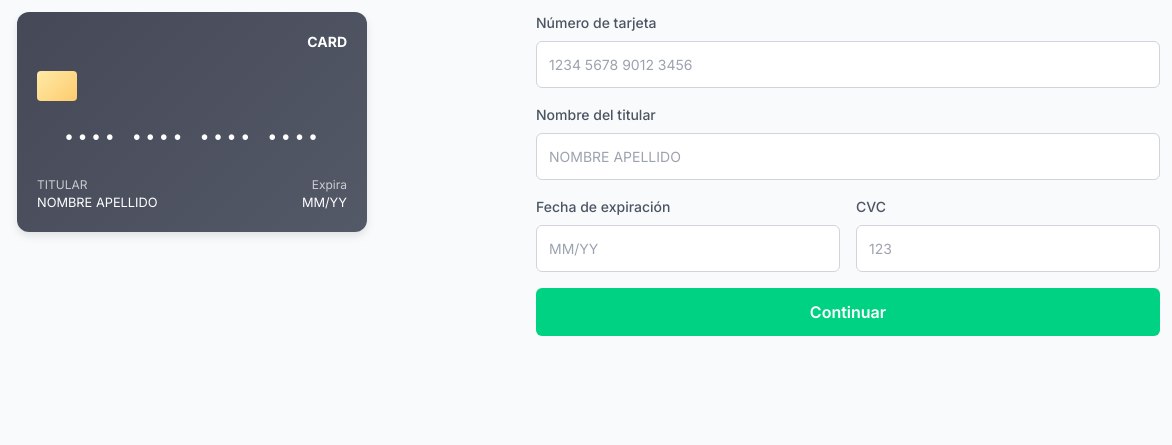
Test: CreditCardForm › validates card number format
The width and height of the screenshot is (1172, 445).
In the field labelled "Número de tarjeta": (848, 64) [536, 41, 1160, 88], type "1234"
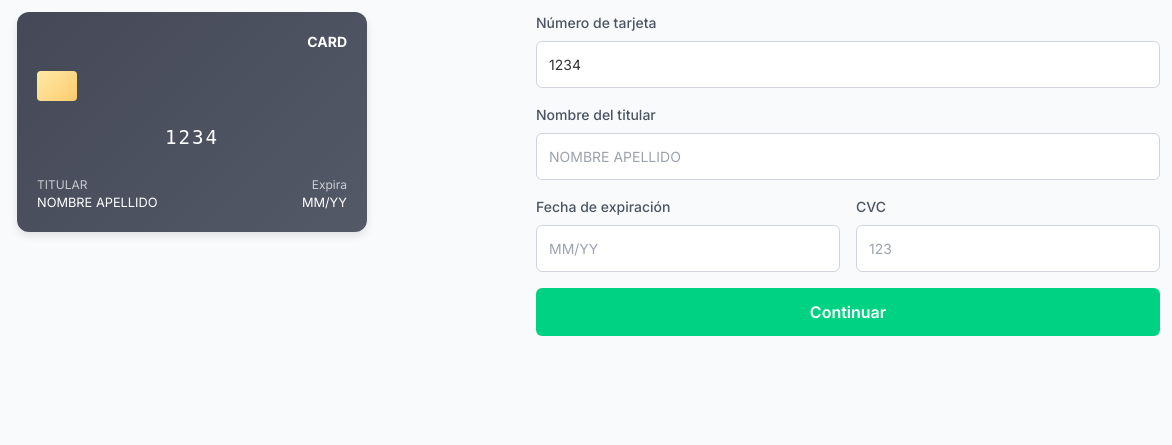
Submit the form from the button "Continuar", box [536, 288, 1160, 336]
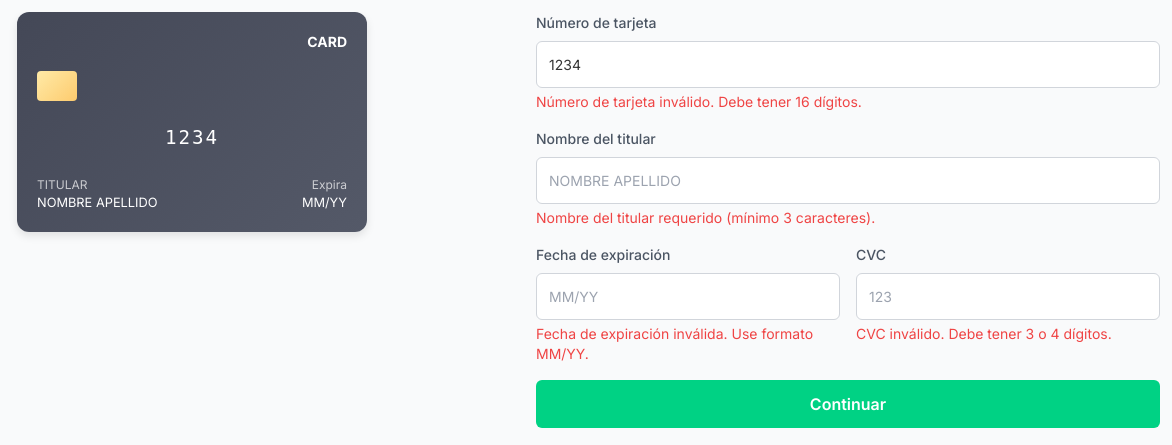
Expected: the text "Número de tarjeta inválido. Debe tener 16 dígitos." is shown, [536, 93, 862, 110]
